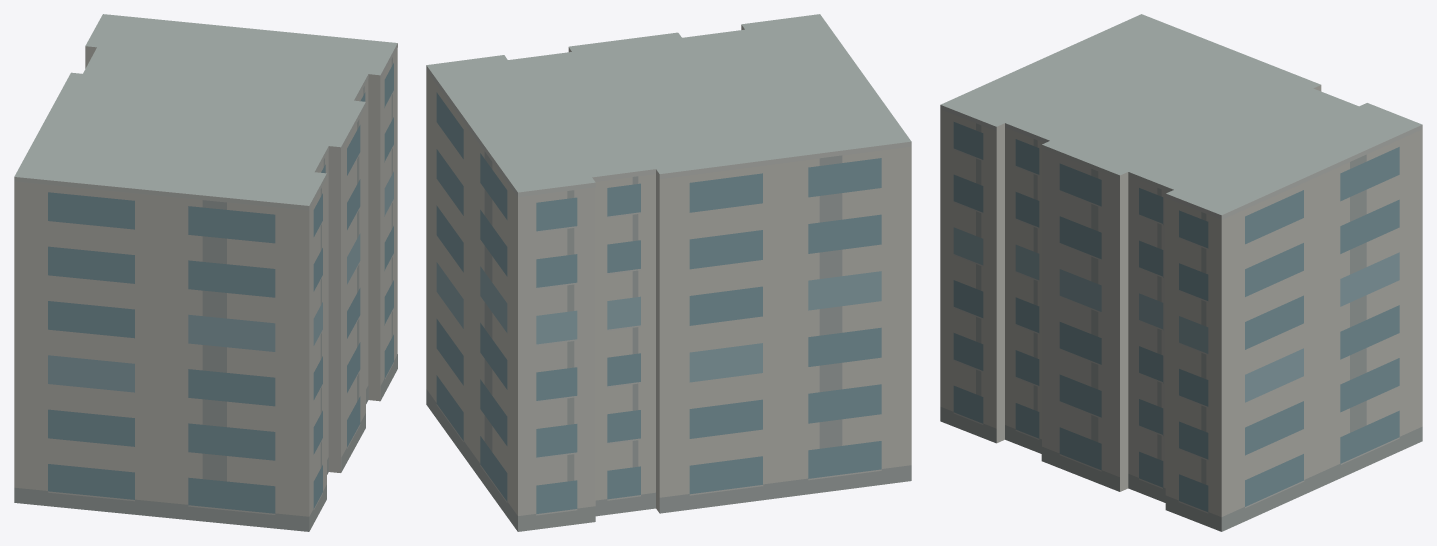
The model's file is survey-upis-32890241.glb.
3 views of the same model, side by side, from view 1: azimuth 30°, elevation 25°; view 2: azimuth 150°, elevation 25°; view 3: azimuth 270°, elevation 25° (orthographic). The views are drawn at different scales.
Parts seen in each view (by area): view 1: survey-upis-32890241.tmp; view 2: survey-upis-32890241.tmp; view 3: survey-upis-32890241.tmp.
Boxes of the visible parts, bbox=[...] form: survey-upis-32890241.tmp: bbox=[14, 14, 397, 531]; survey-upis-32890241.tmp: bbox=[426, 14, 911, 531]; survey-upis-32890241.tmp: bbox=[940, 14, 1422, 531].
Bounding box in the file's own units: 23.33 × 17.1 × 23.61.
